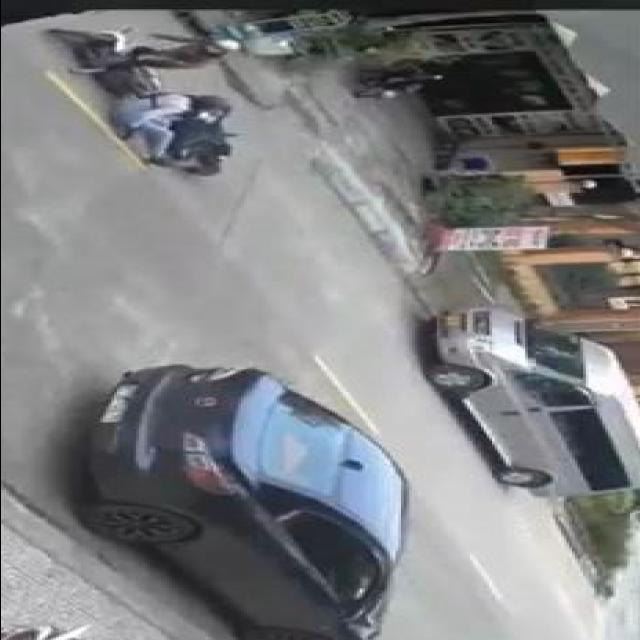accident: (31, 21, 268, 180)
